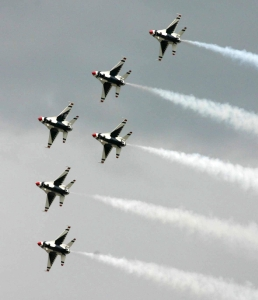flight: (36, 102, 81, 149), (89, 57, 133, 105), (146, 14, 189, 63), (90, 118, 134, 165), (36, 225, 78, 273), (34, 166, 77, 212)
